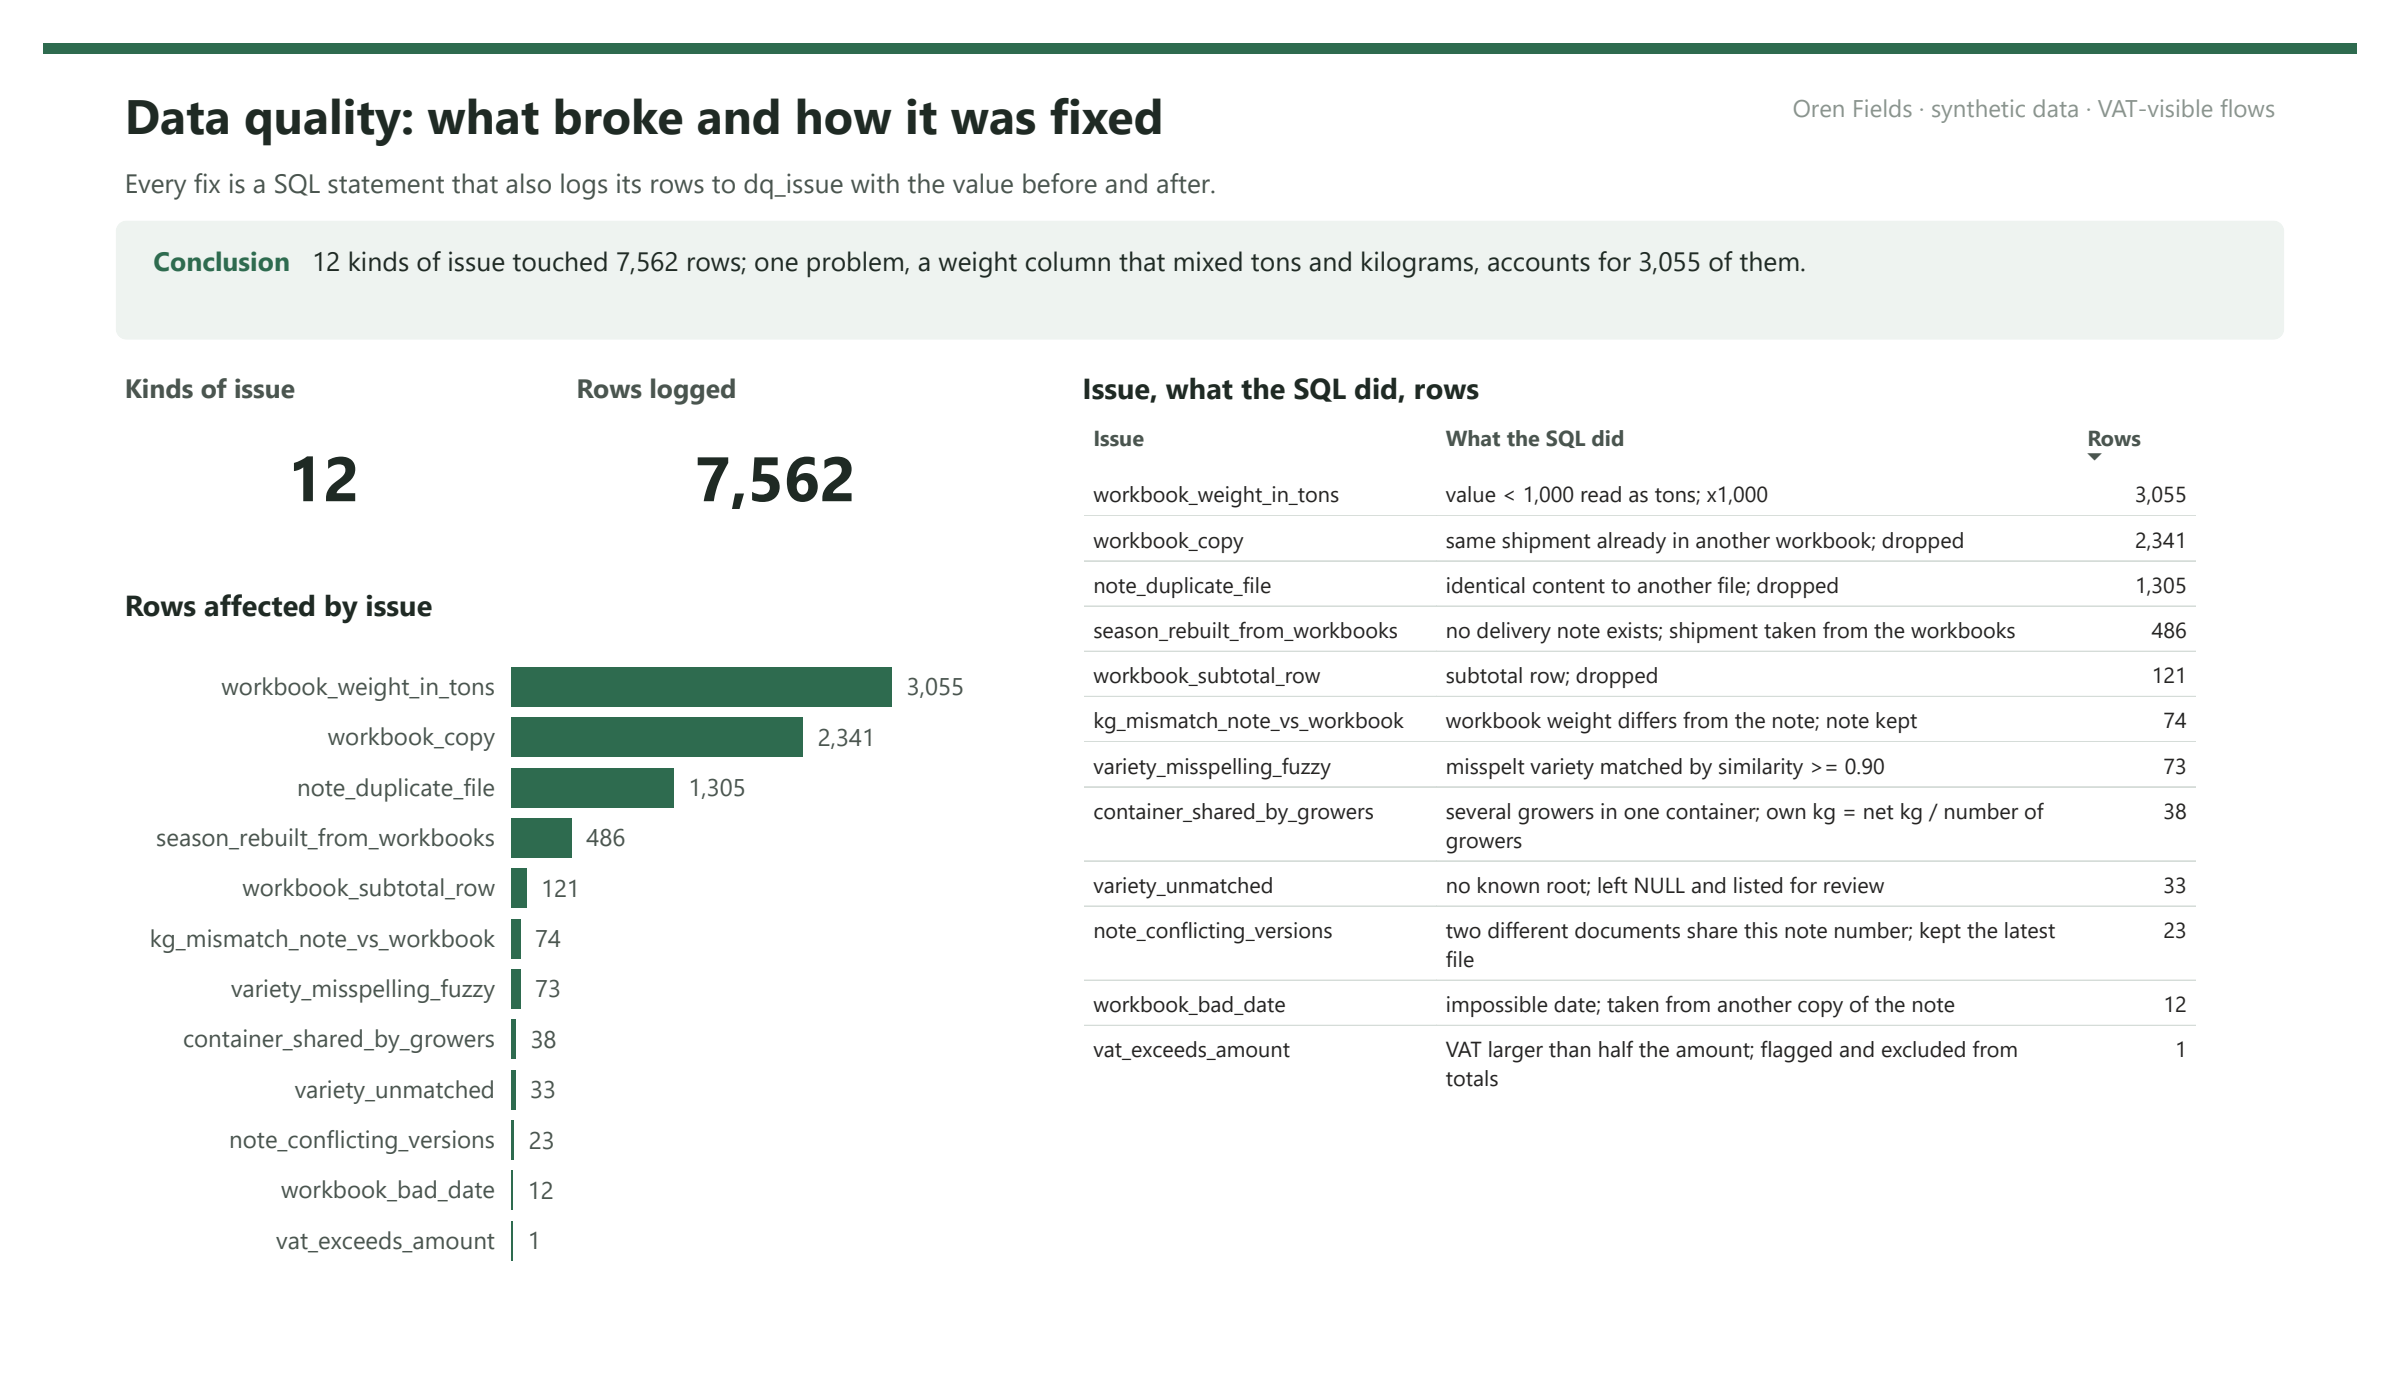

This screenshot's page, from the dashboard's own definition file:
{"tool":"powerbi","page":{"name":"Data quality","canvas":[1280,720],"ordinal":4},"visuals":[{"type":"shape","box":[0,0,1280,6],"z":0},{"type":"textbox","box":[40,16,820,48],"z":1},{"type":"textbox","box":[860,22,380,34],"z":1},{"type":"textbox","box":[40,62,1200,34],"z":1},{"type":"shape","box":[40,98,1200,66],"z":1},{"type":"textbox","box":[56,105,1168,56],"z":2},{"type":"card","title":"Kinds of issue","fields":{"Values":["_Measures.Issue types"]},"box":[40,180,230,100],"z":2},{"type":"card","title":"Rows logged","fields":{"Values":["_Measures.Rows affected"]},"box":[290,180,230,100],"z":2},{"type":"tableEx","title":"Issue, what the SQL did, rows","fields":{"Values":["dq_issue.issue_code","dq_issue.action","_Measures.Rows affected"]},"box":[570,180,670,510],"z":2},{"type":"barChart","title":"Rows affected by issue","fields":{"Category":["dq_issue.issue_code"],"Y":["_Measures.Rows affected"]},"box":[40,300,500,390],"z":2}]}

Visuals, with their boxes in screenshot pixels (x1, y1, x2, y2), scaled from the page's 1280x720 canvas onto the 2400x1388 screenshot:
shape: (0,0,2399,12)
textbox: (75,31,1612,123)
textbox: (1612,42,2325,108)
textbox: (75,120,2325,185)
shape: (75,189,2325,316)
textbox: (105,202,2295,310)
"Kinds of issue" card: (75,347,506,540)
"Rows logged" card: (544,347,975,540)
"Issue, what the SQL did, rows" tableEx: (1069,347,2325,1330)
"Rows affected by issue" barChart: (75,578,1012,1330)
